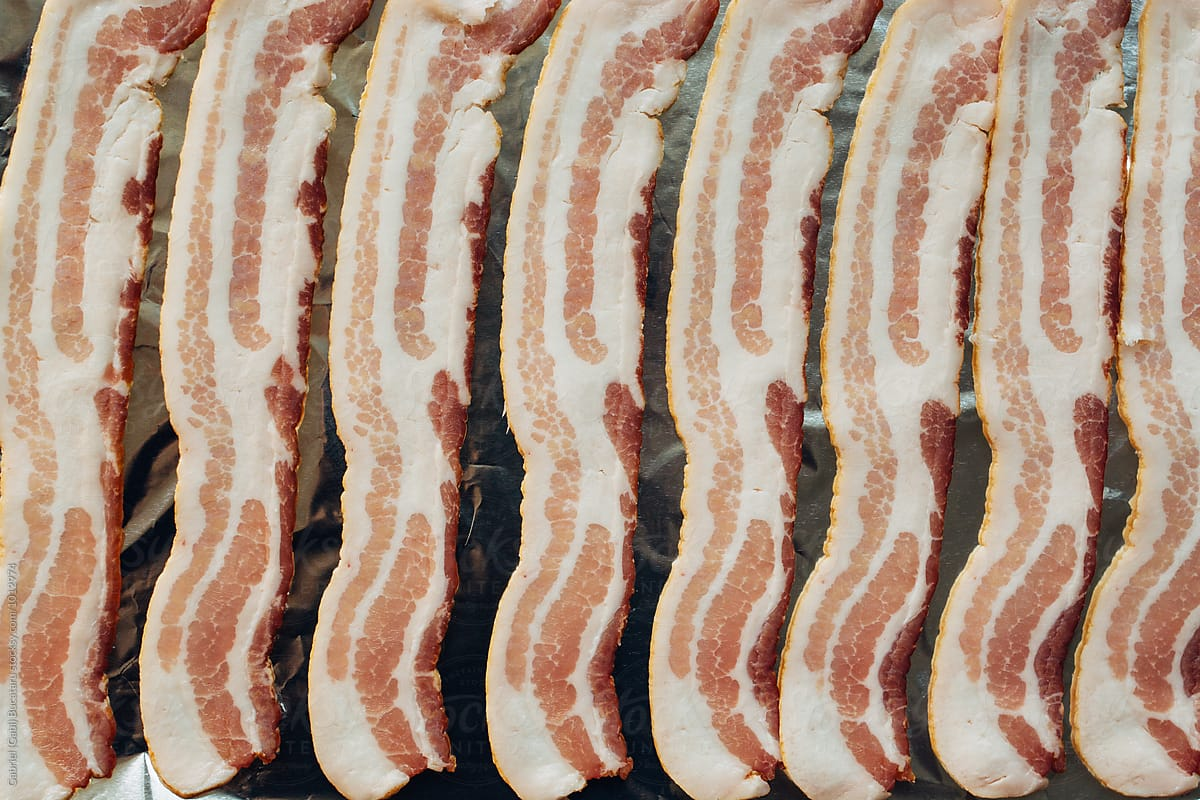bacon: (713, 68, 1189, 799), (154, 1, 497, 767), (7, 8, 128, 800)
